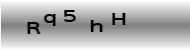5: (62, 8, 77, 23)
H: (111, 11, 126, 26)
R: (26, 20, 40, 34)
h: (89, 18, 103, 33)
q: (43, 12, 56, 26)
